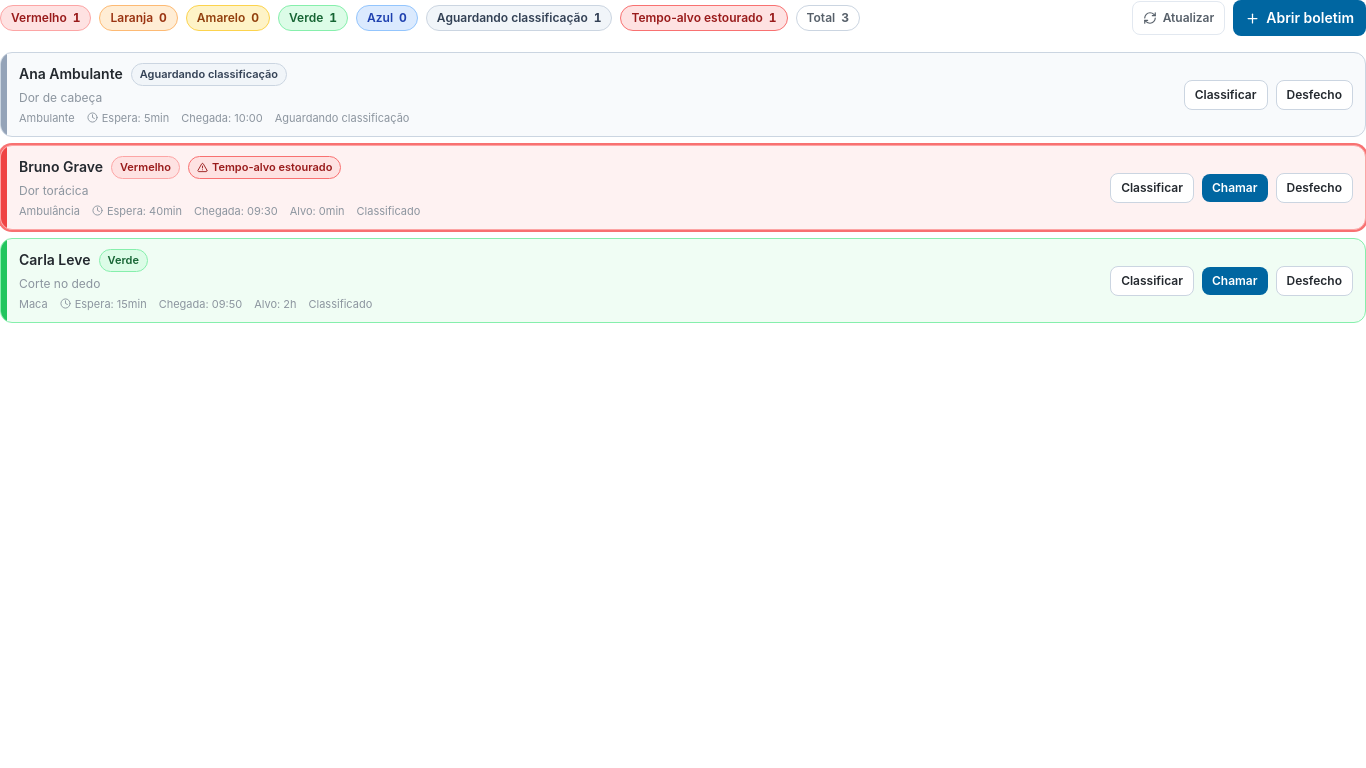
PsBoard › opens Classificar and Desfecho modals from a row
The image size is (1366, 768).
Expected: the text "Bruno Grave" is shown, [19, 157, 103, 177]
Click the button "Classificar" in the row of "Ana Ambulante": (1226, 94) [1184, 80, 1268, 110]
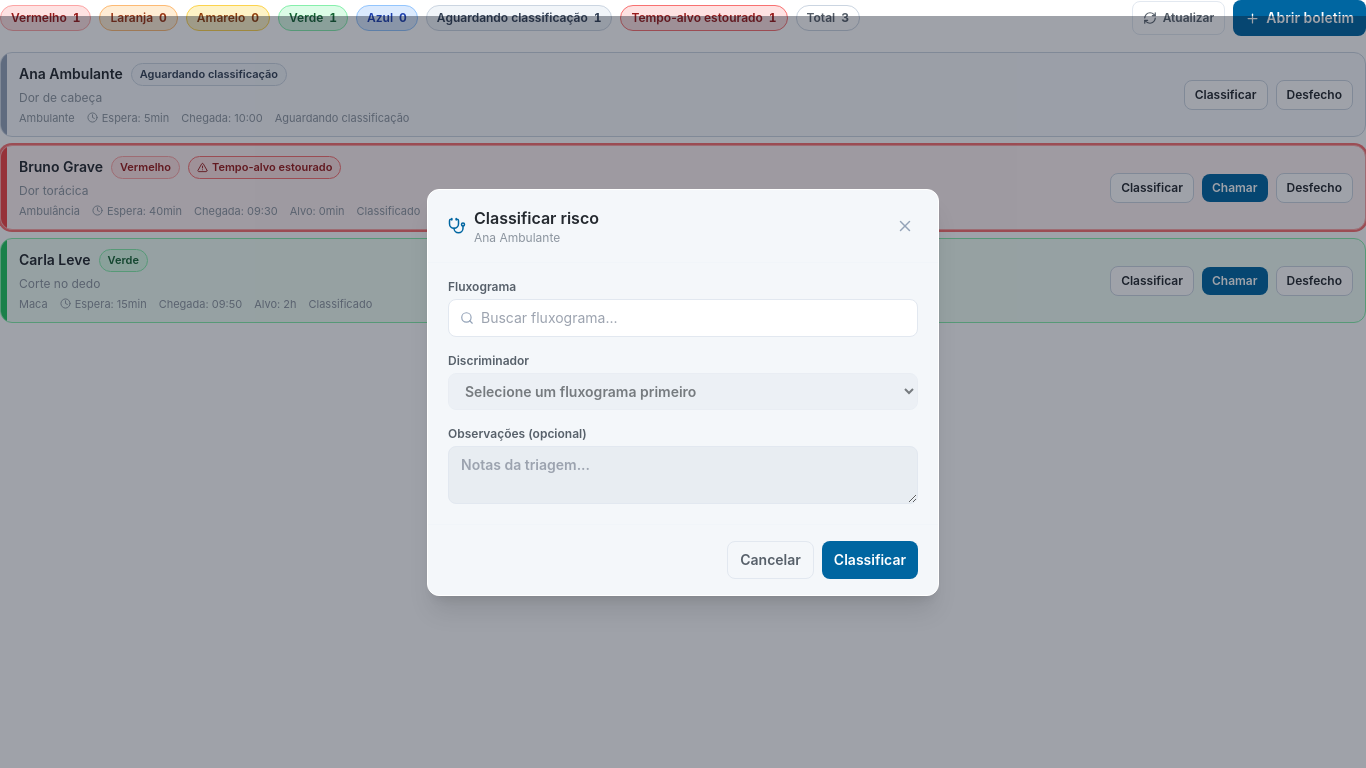
Expected: the dialog "Classificar risco" is shown
Click the button named "Fechar": (905, 226) [892, 212, 918, 238]
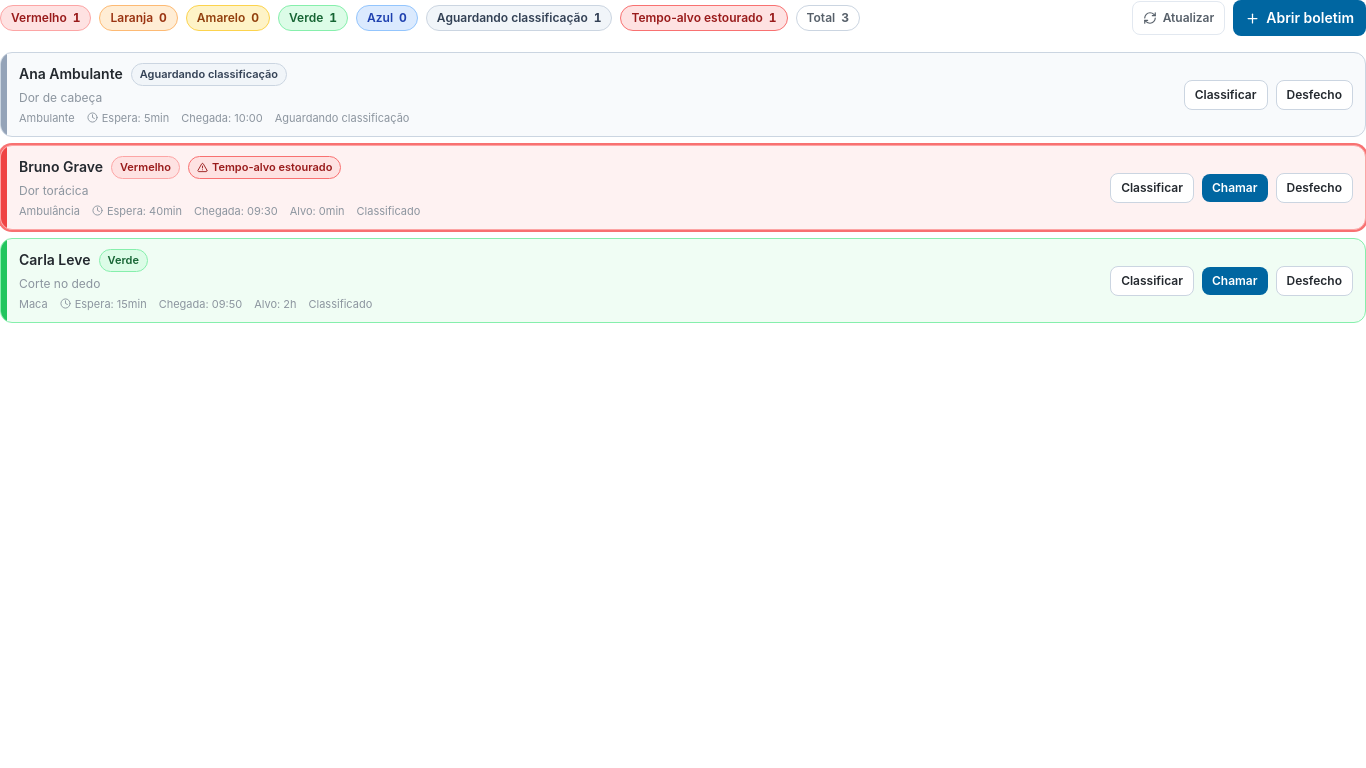
Click the button "Desfecho" in the row of "Ana Ambulante": (1314, 94) [1276, 80, 1353, 110]
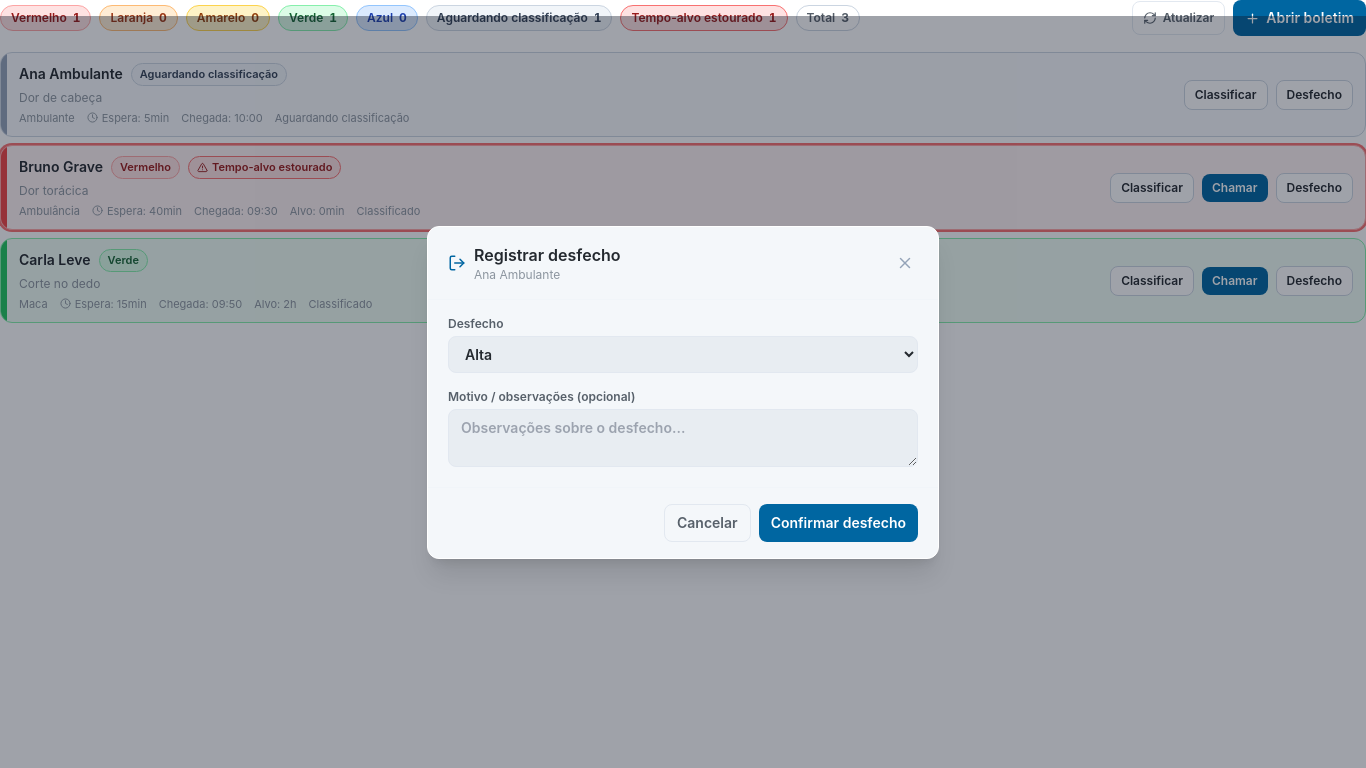
Expected: the dialog "Registrar desfecho" is shown
